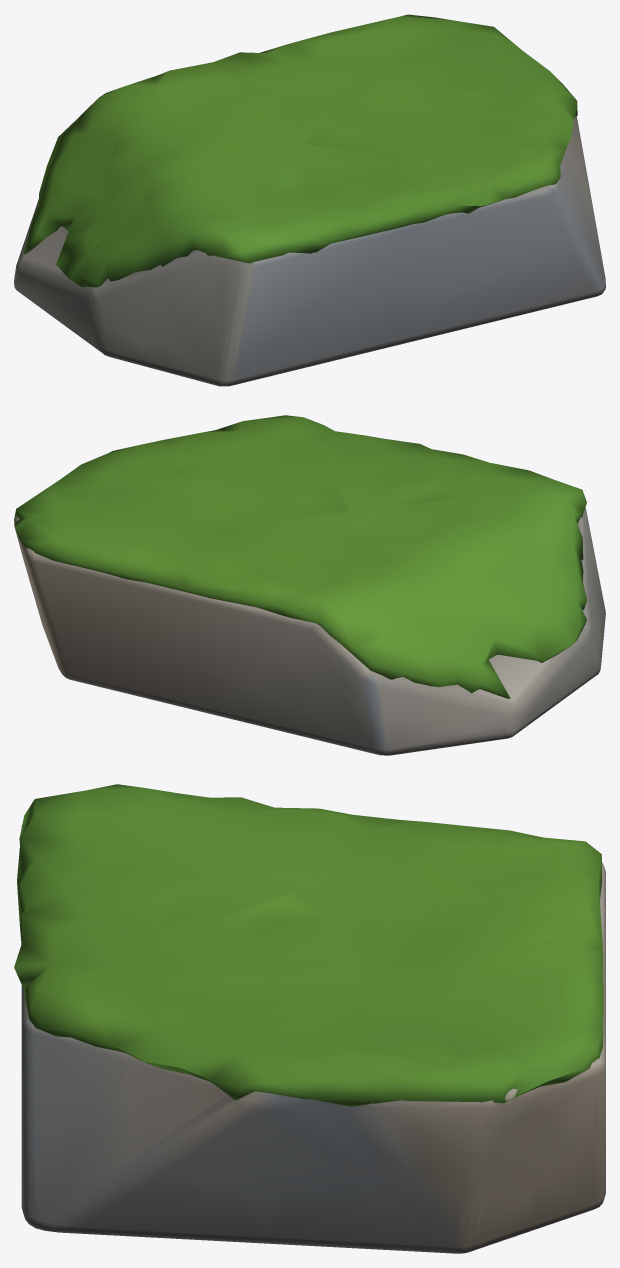
File: grotto_rock_b.glb
3 views of the same model, one above another, from view 1: azimuth 30°, elevation 25°; view 2: azimuth 150°, elevation 25°; view 3: azimuth 270°, elevation 25° (orthographic). The views are drawn at different scales.
Visible parts, largest first — view 1: moss, grotto_rock_b; view 2: moss, grotto_rock_b; view 3: moss, grotto_rock_b.
Part boxes in pixels (left/top/right/bottom): moss: left=23, top=14, right=577, bottom=287; grotto_rock_b: left=14, top=116, right=605, bottom=386; moss: left=14, top=415, right=587, bottom=698; grotto_rock_b: left=14, top=507, right=605, bottom=755; moss: left=14, top=784, right=603, bottom=1106; grotto_rock_b: left=21, top=825, right=605, bottom=1253.
Bounding box in the file's own units: 5.01 × 1.32 × 3.65.
